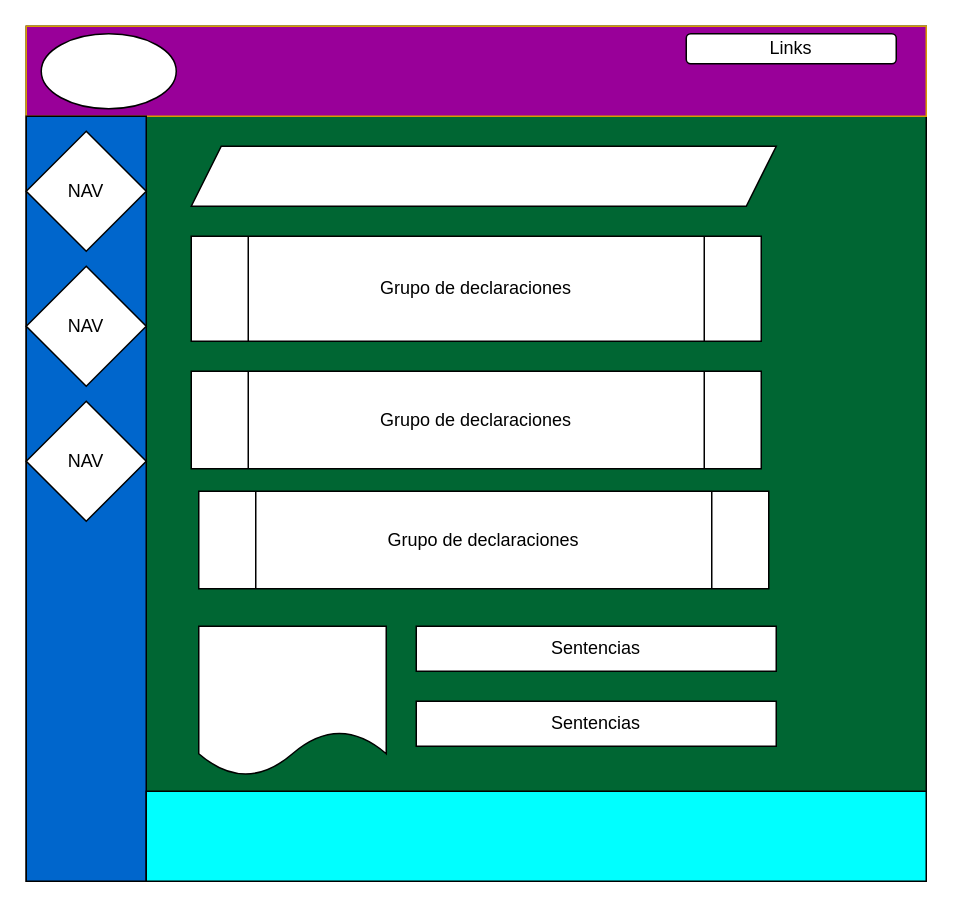
Image size: 953x908. Some labels were removed from this diagram. The shapes that lost their labels are listed below. From the top down, each one's centre as x and y in pixels, then its label:
At [108,70]: "imagen".
At [483,175]: "Texto".
At [291,700]: "Grupo de links".
At [535,835]: "FOOTER".
